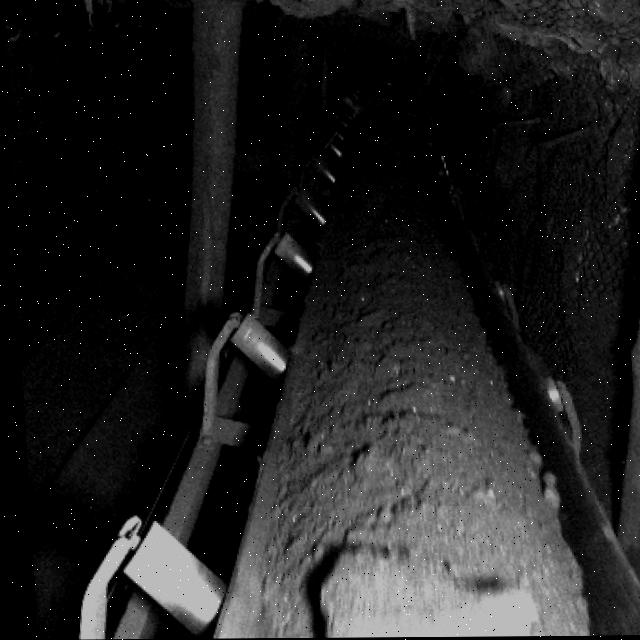large_sized_coal: (308, 545, 529, 638)
